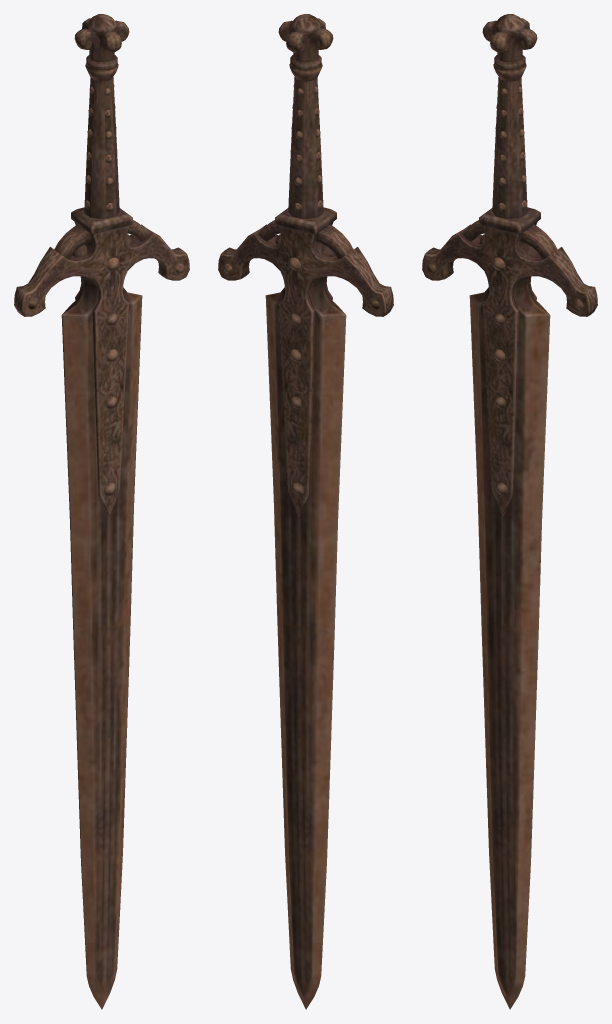
The model's file is weapon-wp_a_0613.glb.
The picture shows the model from 3 angles, left to right: view 1: azimuth 30°, elevation 25°; view 2: azimuth 150°, elevation 25°; view 3: azimuth 330°, elevation 25°; orthographic projection.
Parts seen in each view (by area): view 1: wp_a_0613_mesh; view 2: wp_a_0613_mesh; view 3: wp_a_0613_mesh.
Boxes of the visible parts, left/top/right/bottom form: wp_a_0613_mesh: left=14, top=14, right=189, bottom=1009; wp_a_0613_mesh: left=218, top=14, right=393, bottom=1009; wp_a_0613_mesh: left=422, top=14, right=597, bottom=1009.
Bounding box in the file's own units: 0.2758 × 1.54 × 0.0824.
1 material, 1 textured.
